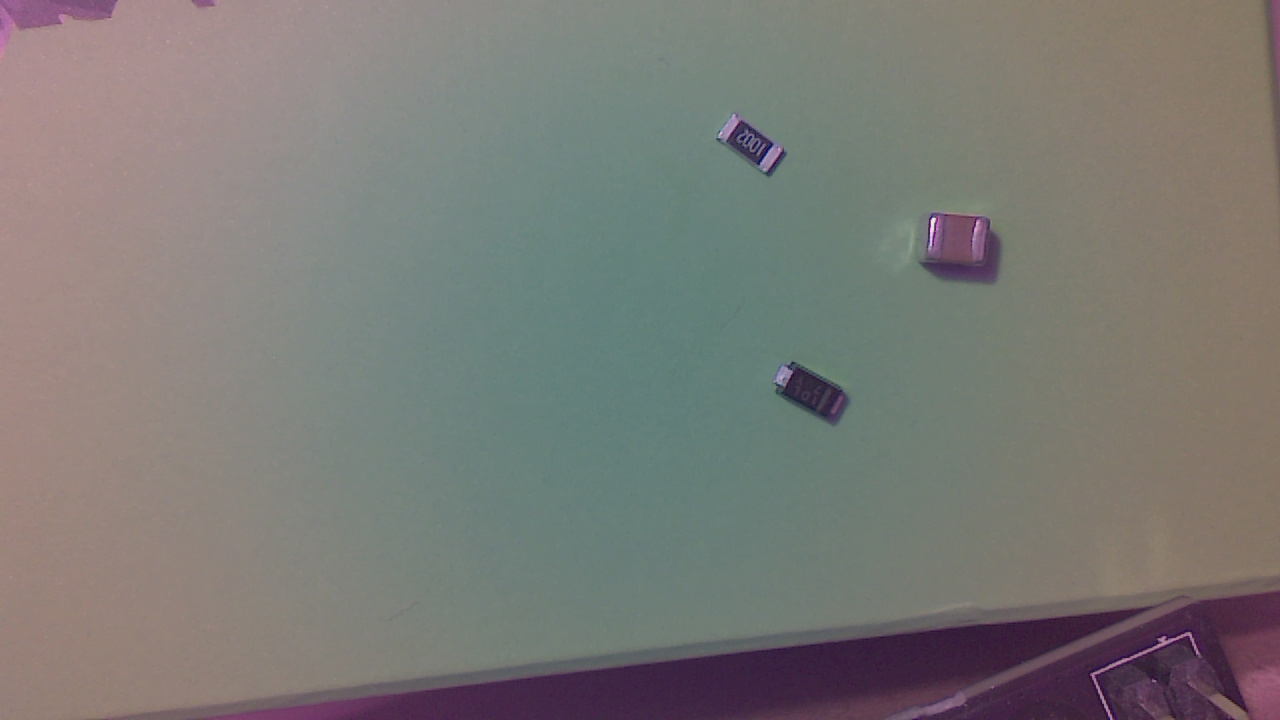Condensator: (922, 217, 995, 276)
Diode: (778, 365, 855, 425)
Resistor: (719, 119, 790, 180)
